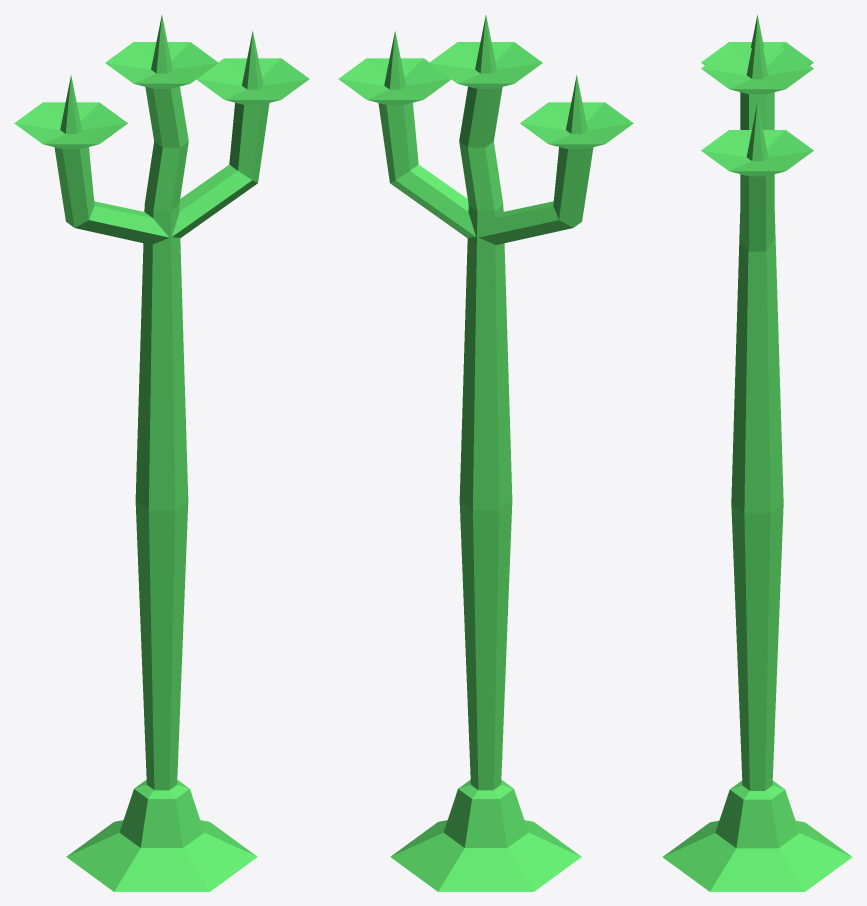
File: 047_candlestick.fbx
3 renders of one model, left to right at view 1: azimuth 30°, elevation 25°; view 2: azimuth 150°, elevation 25°; view 3: azimuth 270°, elevation 25°, orthographic.
Parts seen in each view (by area): view 1: CANDLESTICK; view 2: CANDLESTICK; view 3: CANDLESTICK.
Part boxes in pixels (x1,y1,x2,y2): CANDLESTICK: (14,15,309,891); CANDLESTICK: (338,15,633,891); CANDLESTICK: (662,14,852,891).
Bounding box in the file's own units: 40.46 × 122 × 25.13.
